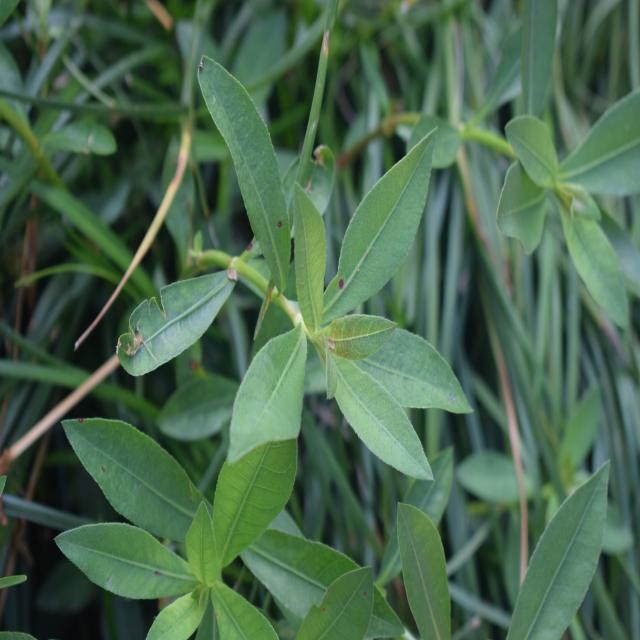Alligatorweed: (153, 44, 468, 495), (59, 400, 382, 638)
